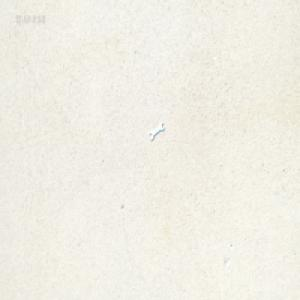Wrench: (148, 122, 165, 140)
